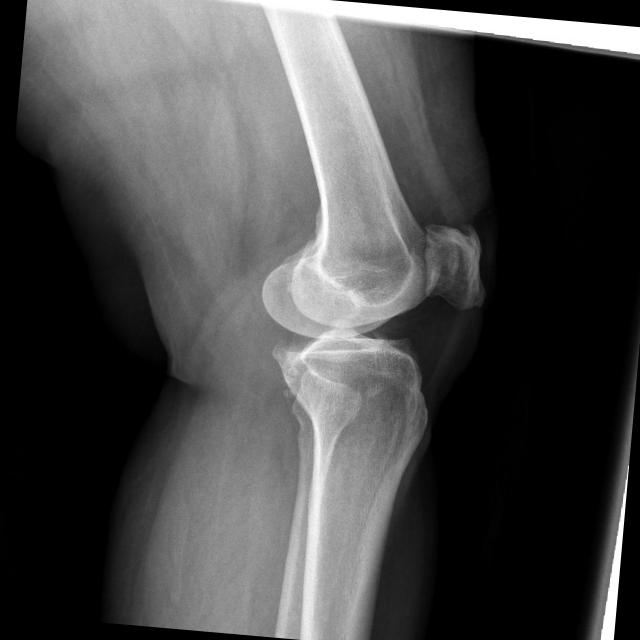Knee: (250, 203, 485, 430)
